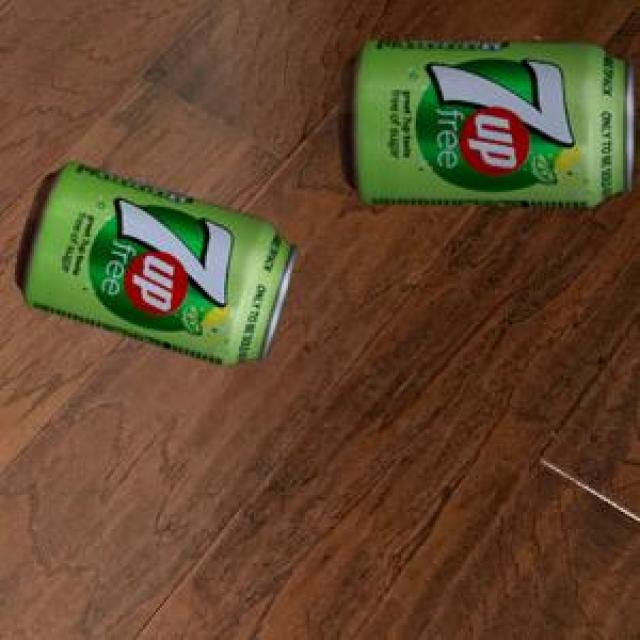logam: (12, 159, 293, 362), (336, 37, 630, 204)
